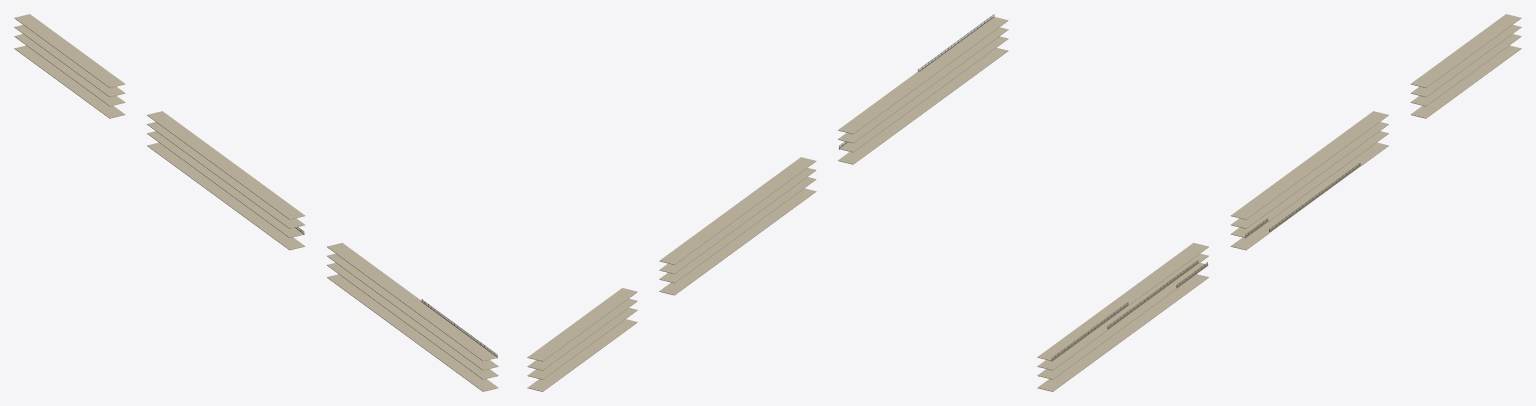
File: LinkedForeReceiving.glb
3 views of the same model, side by side, from view 1: azimuth 30°, elevation 25°; view 2: azimuth 150°, elevation 25°; view 3: azimuth 330°, elevation 25° (orthographic).
Parts seen in each view (by area): view 1: D05_ExactForeFloorSuccessor, D02_ExactForeFloorSuccessor, D04_ExactForeFloorSuccessor, D03_ExactForeFloorSuccessor; view 2: D05_ExactForeFloorSuccessor, D02_ExactForeFloorSuccessor, D04_ExactForeFloorSuccessor, D03_ExactForeFloorSuccessor; view 3: D05_ExactForeFloorSuccessor, D02_ExactForeFloorSuccessor, D03_ExactForeFloorSuccessor, D04_ExactForeFloorSuccessor.
Part boxes in pixels (box(x1,y1,x2,y2)): D05_ExactForeFloorSuccessor: box(14, 14, 497, 361); D02_ExactForeFloorSuccessor: box(14, 45, 498, 391); D04_ExactForeFloorSuccessor: box(14, 25, 498, 370); D03_ExactForeFloorSuccessor: box(14, 34, 498, 379); D05_ExactForeFloorSuccessor: box(527, 17, 1008, 361); D02_ExactForeFloorSuccessor: box(527, 47, 1008, 391); D04_ExactForeFloorSuccessor: box(527, 27, 1008, 370); D03_ExactForeFloorSuccessor: box(527, 36, 1008, 379); D05_ExactForeFloorSuccessor: box(1037, 14, 1521, 360); D02_ExactForeFloorSuccessor: box(1037, 45, 1521, 391); D03_ExactForeFloorSuccessor: box(1037, 34, 1521, 379); D04_ExactForeFloorSuccessor: box(1037, 25, 1521, 370).
Bounding box in the file's own units: 8 × 16.8 × 417.
4 materials, 3 textured.
